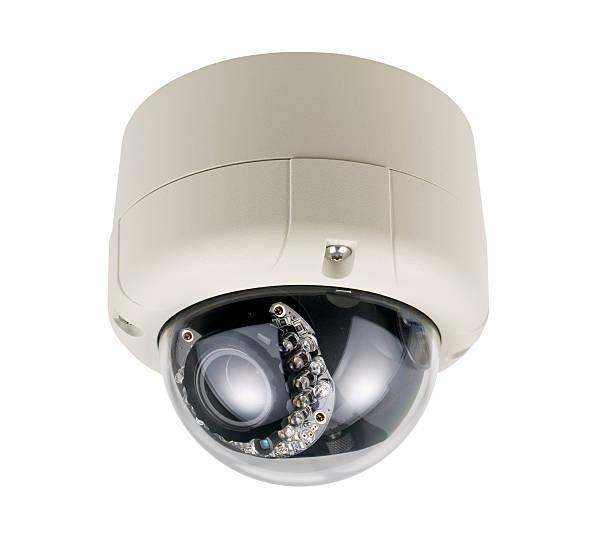camera: (89, 19, 539, 494)
